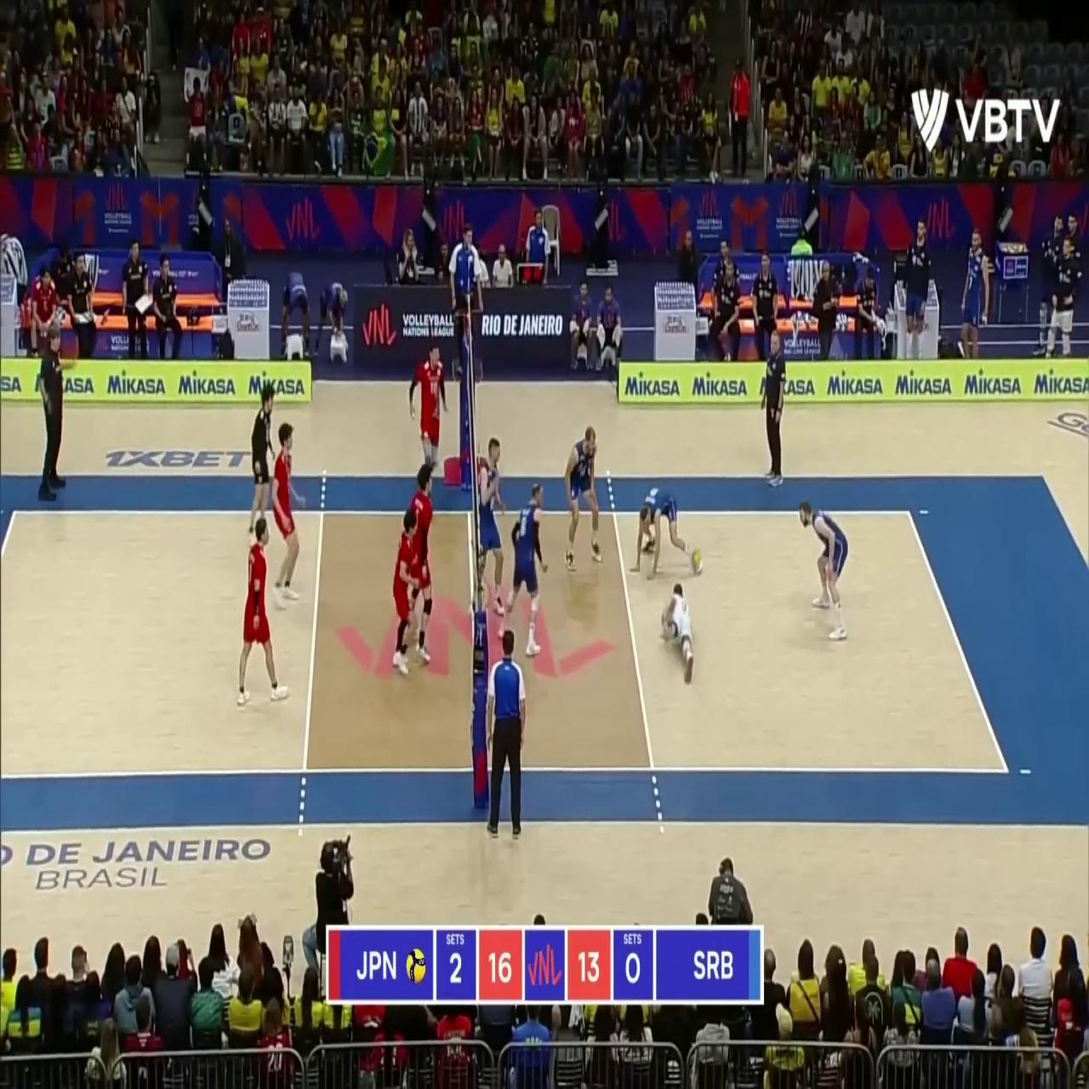ball: (691, 547, 700, 569)
